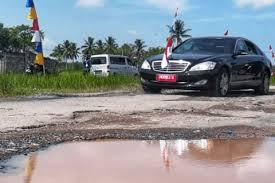Pothole: (2, 136, 275, 183), (24, 102, 123, 134), (142, 103, 226, 124)
